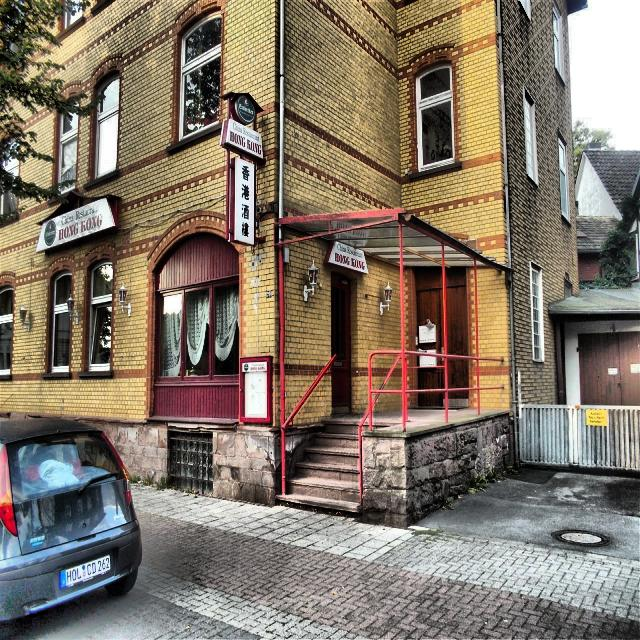escada: (276, 422, 362, 516)
